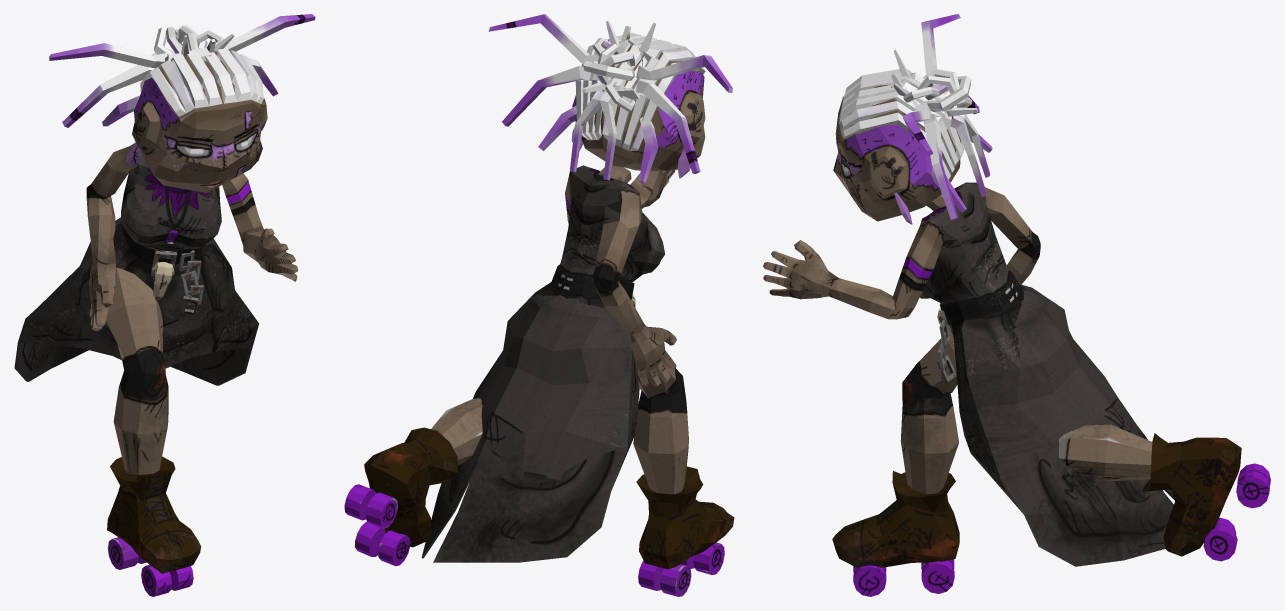
Rendered from bruja_000014.obj.
3 views of the same model, side by side, from view 1: azimuth 30°, elevation 25°; view 2: azimuth 150°, elevation 25°; view 3: azimuth 270°, elevation 25° (orthographic). The views are drawn at different scales.
Visible parts, largest first — view 1: Bruja_Plane.001; view 2: Bruja_Plane.001; view 3: Bruja_Plane.001.
Boxes of the visible parts, x1,y1,x2,y2 form: Bruja_Plane.001: (14, 14, 315, 596); Bruja_Plane.001: (344, 14, 734, 596); Bruja_Plane.001: (763, 14, 1270, 596).
Bounding box in the file's own units: 7.44 × 15.2 × 12.63.
